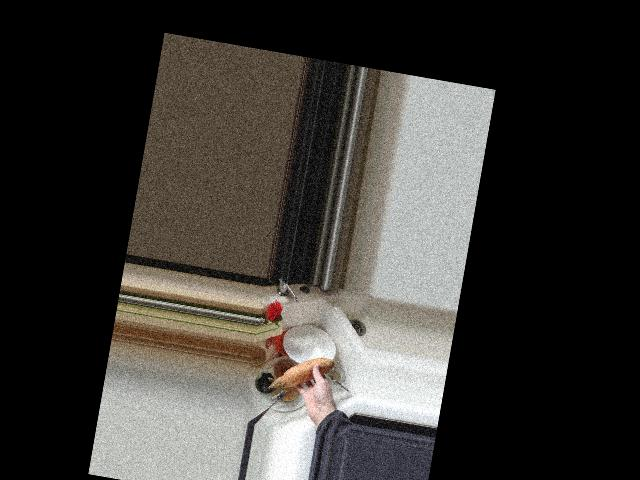sweet_potato: (269, 347, 336, 401)
